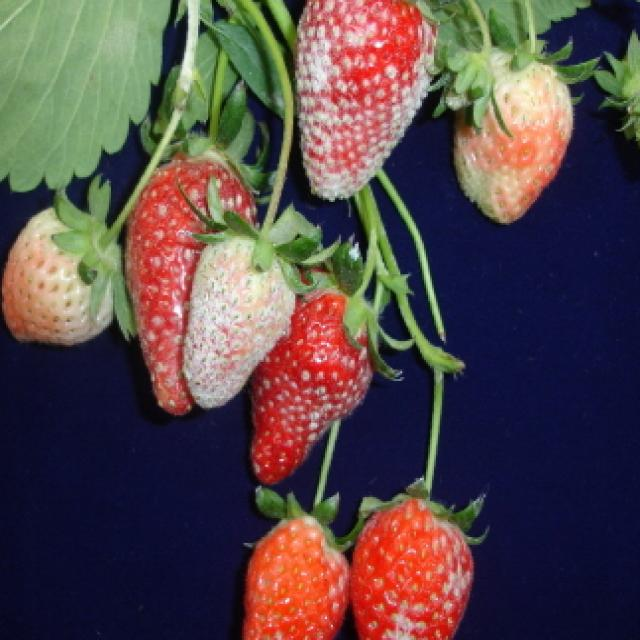Powdery Mildew Fruit: (123, 153, 262, 414), (292, 0, 439, 204), (249, 284, 379, 487), (180, 229, 298, 410), (348, 493, 475, 640), (240, 516, 348, 640)
